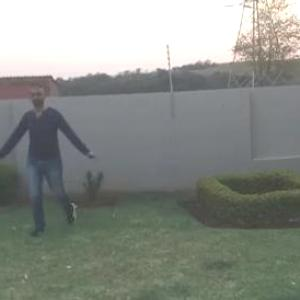land: (1, 96, 96, 236)
